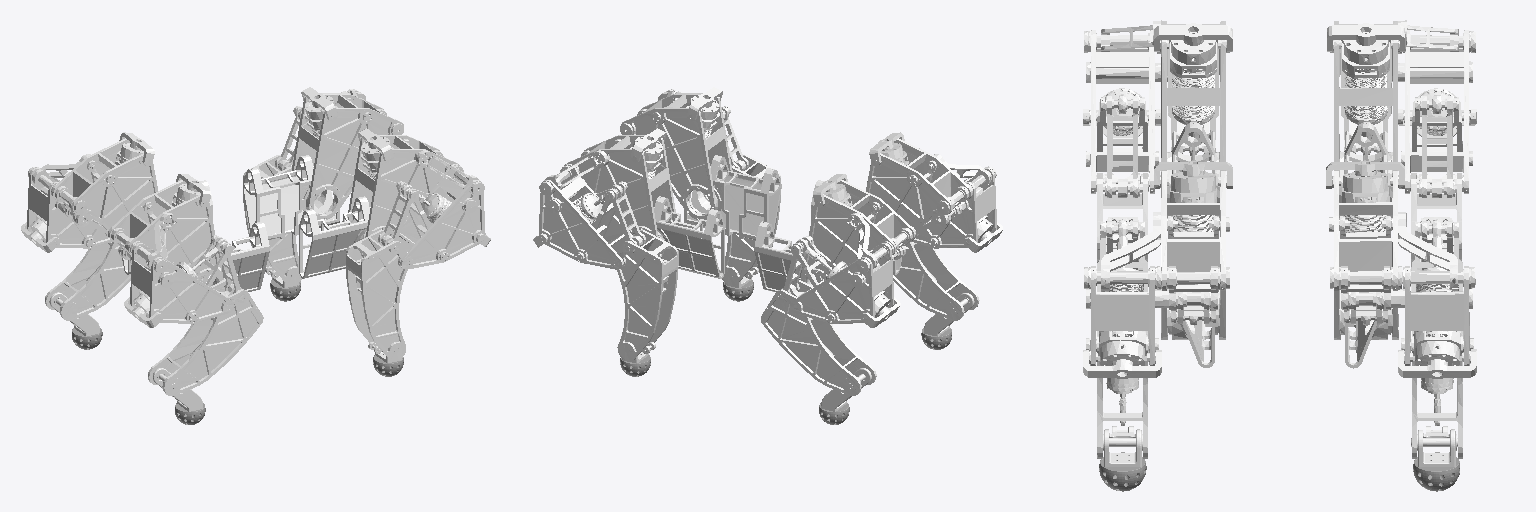
The robot description file, URDF, robot "Cheetah_fourth":
<?xml version="1.0" encoding="utf-8"?>
<!-- This URDF was automatically created by SolidWorks to URDF Exporter! Originally created by Stephen Brawner ([email redacted]) 
     Commit Version: 1.6.0-4-g7f85cfe  Build Version: 1.6.7995.38578
     For more information, please see http://wiki.ros.org/sw_urdf_exporter -->
<robot
  name="Cheetah_fourth">
  <mujoco>
    <compiler
    	meshdir="../meshes/"
    	balanceinertia="true"
    	discardvisual="false" />
  </mujoco>
  <link
    name="BODY">
    <inertial>
      <origin
        xyz="-0.00146519 2.347E-05 -0.00519656"
        rpy="0 0 0" />
      <mass
        value="43.51065452" />
      <inertia
        ixx="1.00623908"
        ixy="0.00027209"
        ixz="0.00398275"
        iyy="2.0487861"
        iyz="3.28E-06"
        izz="2.63616358" />
    </inertial>
    <visual>
      <origin
        xyz="0 0 0"
        rpy="0 0 0" />
      <geometry>
        <mesh
          filename="package://Cheetah_fourth/meshes/BODY.STL" />
      </geometry>
      <material
        name="">
        <color
          rgba="1 1 1 1" />
      </material>
    </visual>
    <collision>
      <origin
        xyz="0 0 0"
        rpy="0 0 0" />
      <geometry>
        <mesh
          filename="package://Cheetah_fourth/meshes/BODY.STL" />
      </geometry>
    </collision>
  </link>
  <link
    name="FR_1">
    <inertial>
      <origin
        xyz="0.092555 -0.01613 0.050348"
        rpy="0 0 0" />
      <mass
        value="20.135" />
      <inertia
        ixx="0.3305"
        ixy="0.059908"
        ixz="-0.050984"
        iyy="0.56539"
        iyz="0.0049697"
        izz="0.39769" />
    </inertial>
    <visual>
      <origin
        xyz="0 0 0"
        rpy="0 0 0" />
      <geometry>
        <mesh
          filename="package://Cheetah_fourth/meshes/FR_1.STL" />
      </geometry>
      <material
        name="">
        <color
          rgba="1 1 1 1" />
      </material>
    </visual>
    <collision>
      <origin
        xyz="0 0 0"
        rpy="0 0 0" />
      <geometry>
        <mesh
          filename="package://Cheetah_fourth/meshes/FR_1.STL" />
      </geometry>
    </collision>
  </link>
  <joint
    name="FR_1A"
    type="revolute">
    <origin
      xyz="0.3575 -0.2 0"
      rpy="0 0 0" />
    <parent
      link="BODY" />
    <child
      link="FR_1" />
    <axis
      xyz="1 0 0" />
    <limit
      lower="-3.14"
      upper="3.14"
      effort="1000"
      velocity="50" />
  </joint>
  <link
    name="FR_2">
    <inertial>
      <origin
        xyz="-0.10611 -0.00050205 -0.13892"
        rpy="0 0 0" />
      <mass
        value="14.125" />
      <inertia
        ixx="0.097553"
        ixy="3.5E-06"
        ixz="0.0093113"
        iyy="0.23134"
        iyz="1.43E-06"
        izz="0.17865" />
    </inertial>
    <visual>
      <origin
        xyz="0 0 0"
        rpy="0 0 0" />
      <geometry>
        <mesh
          filename="package://Cheetah_fourth/meshes/FR_2.STL" />
      </geometry>
      <material
        name="">
        <color
          rgba="1 1 1 1" />
      </material>
    </visual>
    <collision>
      <origin
        xyz="0 0 0"
        rpy="0 0 0" />
      <geometry>
        <mesh
          filename="package://Cheetah_fourth/meshes/FR_2.STL" />
      </geometry>
    </collision>
  </link>
  <joint
    name="FR_2A"
    type="revolute">
    <origin
      xyz="0.2902 -0.164 0.082427"
      rpy="0 0 0" />
    <parent
      link="FR_1" />
    <child
      link="FR_2" />
    <axis
      xyz="0 1 0" />
    <limit
      lower="-3.14"
      upper="3.14"
      effort="1000"
      velocity="50" />
  </joint>
  <link
    name="FR_3">
    <inertial>
      <origin
        xyz="-0.094809 0.00026458 -0.10877"
        rpy="0 0 0" />
      <mass
        value="7.5034" />
      <inertia
        ixx="0.083138"
        ixy="4.539E-05"
        ixz="0.0077468"
        iyy="0.086786"
        iyz="-0.00016735"
        izz="0.018672" />
    </inertial>
    <visual>
      <origin
        xyz="0 0 0"
        rpy="0 0 0" />
      <geometry>
        <mesh
          filename="package://Cheetah_fourth/meshes/FR_3.STL" />
      </geometry>
      <material
        name="">
        <color
          rgba="1 1 1 1" />
      </material>
    </visual>
    <collision>
      <origin
        xyz="0 0 0"
        rpy="0 0 0" />
      <geometry>
        <mesh
          filename="package://Cheetah_fourth/meshes/FR_3.STL" />
      </geometry>
    </collision>
  </link>
  <joint
    name="FR_3A"
    type="revolute">
    <origin
      xyz="-0.28251 0 -0.22953"
      rpy="0 0 0" />
    <parent
      link="FR_2" />
    <child
      link="FR_3" />
    <axis
      xyz="0 1 0" />
    <limit
      lower="-3.14"
      upper="3.14"
      effort="1000"
      velocity="50" />
  </joint>
  <link
    name="FR_4">
    <inertial>
      <origin
        xyz="-0.0058308 0 -0.008628"
        rpy="0 0 0" />
      <mass
        value="0.87541" />
      <inertia
        ixx="0.0012892"
        ixy="0"
        ixz="4.401E-05"
        iyy="0.00065005"
        iyz="0"
        izz="0.0013193" />
    </inertial>
    <visual>
      <origin
        xyz="0 0 0"
        rpy="0 0 0" />
      <geometry>
        <mesh
          filename="package://Cheetah_fourth/meshes/FR_4.STL" />
      </geometry>
      <material
        name="">
        <color
          rgba="1 1 1 1" />
      </material>
    </visual>
    <collision>
      <origin
        xyz="0 0 0"
        rpy="0 0 0" />
      <geometry>
        <mesh
          filename="package://Cheetah_fourth/meshes/FR_4.STL" />
      </geometry>
    </collision>
  </link>
  <joint
    name="FR_4A"
    type="fixed">
    <origin
      xyz="-0.034765 0 -0.33897"
      rpy="0 0 0" />
    <parent
      link="FR_3" />
    <child
      link="FR_4" />
    <axis
      xyz="0 0 0" />
  </joint>
  <link
    name="FR_5">
    <inertial>
      <origin
        xyz="-6.5164E-09 -4.2276E-08 0.0084722"
        rpy="0 0 0" />
      <mass
        value="0.3917" />
      <inertia
        ixx="0.00040822"
        ixy="-3.5273E-11"
        ixz="8.9063E-11"
        iyy="0.00040822"
        iyz="3.0242E-10"
        izz="0.00055712" />
    </inertial>
    <visual>
      <origin
        xyz="0 0 0"
        rpy="0 0 0" />
      <geometry>
        <mesh
          filename="package://Cheetah_fourth/meshes/FR_5.STL" />
      </geometry>
      <material
        name="">
        <color
          rgba="0.69804 0.69804 0.69804 1" />
      </material>
    </visual>
    <collision>
      <origin
        xyz="0 0 0"
        rpy="0 0 0" />
      <geometry>
        <mesh
          filename="package://Cheetah_fourth/meshes/FR_5.STL" />
      </geometry>
    </collision>
  </link>
  <joint
    name="FR_5A"
    type="fixed">
    <origin
      xyz="0 0 -0.085617"
      rpy="0 0 0" />
    <parent
      link="FR_4" />
    <child
      link="FR_5" />
    <axis
      xyz="0 0 0" />
  </joint>
  <link
    name="FL_1">
    <inertial>
      <origin
        xyz="0.092581 0.015926 0.050388"
        rpy="0 0 0" />
      <mass
        value="20.139" />
      <inertia
        ixx="0.33054"
        ixy="-0.0597"
        ixz="-0.051051"
        iyy="0.56512"
        iyz="-0.004275"
        izz="0.39738" />
    </inertial>
    <visual>
      <origin
        xyz="0 0 0"
        rpy="0 0 0" />
      <geometry>
        <mesh
          filename="package://Cheetah_fourth/meshes/FL_1.STL" />
      </geometry>
      <material
        name="">
        <color
          rgba="1 1 1 1" />
      </material>
    </visual>
    <collision>
      <origin
        xyz="0 0 0"
        rpy="0 0 0" />
      <geometry>
        <mesh
          filename="package://Cheetah_fourth/meshes/FL_1.STL" />
      </geometry>
    </collision>
  </link>
  <joint
    name="FL_1A"
    type="revolute">
    <origin
      xyz="0.3575 0.2 0"
      rpy="0 0 0" />
    <parent
      link="BODY" />
    <child
      link="FL_1" />
    <axis
      xyz="1 0 0" />
    <limit
      lower="-3.14"
      upper="3.14"
      effort="1000"
      velocity="50" />
  </joint>
  <link
    name="FL_2">
    <inertial>
      <origin
        xyz="-0.10611 0.0010496 -0.13892"
        rpy="0 0 0" />
      <mass
        value="14.125" />
      <inertia
        ixx="0.097553"
        ixy="-3.347E-05"
        ixz="0.0093112"
        iyy="0.23134"
        iyz="0.00021065"
        izz="0.17865" />
    </inertial>
    <visual>
      <origin
        xyz="0 0 0"
        rpy="0 0 0" />
      <geometry>
        <mesh
          filename="package://Cheetah_fourth/meshes/FL_2.STL" />
      </geometry>
      <material
        name="">
        <color
          rgba="1 1 1 1" />
      </material>
    </visual>
    <collision>
      <origin
        xyz="0 0 0"
        rpy="0 0 0" />
      <geometry>
        <mesh
          filename="package://Cheetah_fourth/meshes/FL_2.STL" />
      </geometry>
    </collision>
  </link>
  <joint
    name="FL_2A"
    type="revolute">
    <origin
      xyz="0.2902 0.164 0.082427"
      rpy="0 0 0" />
    <parent
      link="FL_1" />
    <child
      link="FL_2" />
    <axis
      xyz="0 1 0" />
    <limit
      lower="-3.14"
      upper="3.14"
      effort="1000"
      velocity="50" />
  </joint>
  <link
    name="FL_3">
    <inertial>
      <origin
        xyz="-0.094809 0.00069651 -0.10811"
        rpy="0 0 0" />
      <mass
        value="7.5034" />
      <inertia
        ixx="0.083138"
        ixy="1.463E-05"
        ixz="0.0077469"
        iyy="0.086786"
        iyz="0.00010313"
        izz="0.018672" />
    </inertial>
    <visual>
      <origin
        xyz="0 0 0"
        rpy="0 0 0" />
      <geometry>
        <mesh
          filename="package://Cheetah_fourth/meshes/FL_3.STL" />
      </geometry>
      <material
        name="">
        <color
          rgba="1 1 1 1" />
      </material>
    </visual>
    <collision>
      <origin
        xyz="0 0 0"
        rpy="0 0 0" />
      <geometry>
        <mesh
          filename="package://Cheetah_fourth/meshes/FL_3.STL" />
      </geometry>
    </collision>
  </link>
  <joint
    name="FL_3A"
    type="revolute">
    <origin
      xyz="-0.28251 0 -0.22953"
      rpy="0 0 0" />
    <parent
      link="FL_2" />
    <child
      link="FL_3" />
    <axis
      xyz="0 1 0" />
    <limit
      lower="-3.14"
      upper="3.14"
      effort="1000"
      velocity="50" />
  </joint>
  <link
    name="FL_4">
    <inertial>
      <origin
        xyz="-0.0058308 3.427E-05 -0.008628"
        rpy="0 0 0" />
      <mass
        value="0.87541" />
      <inertia
        ixx="0.0012892"
        ixy="-1.7E-07"
        ixz="4.401E-05"
        iyy="0.00065006"
        iyz="-2.66E-06"
        izz="0.0013193" />
    </inertial>
    <visual>
      <origin
        xyz="0 0 0"
        rpy="0 0 0" />
      <geometry>
        <mesh
          filename="package://Cheetah_fourth/meshes/FL_4.STL" />
      </geometry>
      <material
        name="">
        <color
          rgba="1 1 1 1" />
      </material>
    </visual>
    <collision>
      <origin
        xyz="0 0 0"
        rpy="0 0 0" />
      <geometry>
        <mesh
          filename="package://Cheetah_fourth/meshes/FL_4.STL" />
      </geometry>
    </collision>
  </link>
  <joint
    name="FL_4A"
    type="fixed">
    <origin
      xyz="-0.034765 0 -0.33897"
      rpy="0 0 0" />
    <parent
      link="FL_3" />
    <child
      link="FL_4" />
    <axis
      xyz="0 0 0" />
  </joint>
  <link
    name="FL_5">
    <inertial>
      <origin
        xyz="-1.3294E-08 -3.368E-05 0.0084721"
        rpy="0 0 0" />
      <mass
        value="0.3917" />
      <inertia
        ixx="0.00040822"
        ixy="-3.8199E-12"
        ixz="1.5061E-11"
        iyy="0.00040822"
        iyz="5.9129E-07"
        izz="0.00055711" />
    </inertial>
    <visual>
      <origin
        xyz="0 0 0"
        rpy="0 0 0" />
      <geometry>
        <mesh
          filename="package://Cheetah_fourth/meshes/FL_5.STL" />
      </geometry>
      <material
        name="">
        <color
          rgba="0.69804 0.69804 0.69804 1" />
      </material>
    </visual>
    <collision>
      <origin
        xyz="0 0 0"
        rpy="0 0 0" />
      <geometry>
        <mesh
          filename="package://Cheetah_fourth/meshes/FL_5.STL" />
      </geometry>
    </collision>
  </link>
  <joint
    name="FL_5A"
    type="fixed">
    <origin
      xyz="0 0 -0.085616"
      rpy="0 0 0" />
    <parent
      link="FL_4" />
    <child
      link="FL_5" />
    <axis
      xyz="0 0 0" />
  </joint>
  <link
    name="BR_1">
    <inertial>
      <origin
        xyz="-0.092581 -0.016126 0.050324"
        rpy="0 0 0" />
      <mass
        value="20.139" />
      <inertia
        ixx="0.33054"
        ixy="-0.059903"
        ixz="0.050814"
        iyy="0.56508"
        iyz="0.004941"
        izz="0.39742" />
    </inertial>
    <visual>
      <origin
        xyz="0 0 0"
        rpy="0 0 0" />
      <geometry>
        <mesh
          filename="package://Cheetah_fourth/meshes/BR_1.STL" />
      </geometry>
      <material
        name="">
        <color
          rgba="1 1 1 1" />
      </material>
    </visual>
    <collision>
      <origin
        xyz="0 0 0"
        rpy="0 0 0" />
      <geometry>
        <mesh
          filename="package://Cheetah_fourth/meshes/BR_1.STL" />
      </geometry>
    </collision>
  </link>
  <joint
    name="BR_1A"
    type="revolute">
    <origin
      xyz="-0.3575 -0.2 0"
      rpy="0 0 0" />
    <parent
      link="BODY" />
    <child
      link="BR_1" />
    <axis
      xyz="1 0 0" />
    <limit
      lower="-3.14"
      upper="3.14"
      effort="1000"
      velocity="50" />
  </joint>
  <link
    name="BR_2">
    <inertial>
      <origin
        xyz="0.11812 -0.00049795 -0.15137"
        rpy="0 0 0" />
      <mass
        value="14.125" />
      <inertia
        ixx="0.084797"
        ixy="3.29E-06"
        ixz="-0.006402"
        iyy="0.24783"
        iyz="-1.74E-06"
        izz="0.2079" />
    </inertial>
    <visual>
      <origin
        xyz="0 0 0"
        rpy="0 0 0" />
      <geometry>
        <mesh
          filename="package://Cheetah_fourth/meshes/BR_2.STL" />
      </geometry>
      <material
        name="">
        <color
          rgba="1 1 1 1" />
      </material>
    </visual>
    <collision>
      <origin
        xyz="0 0 0"
        rpy="0 0 0" />
      <geometry>
        <mesh
          filename="package://Cheetah_fourth/meshes/BR_2.STL" />
      </geometry>
    </collision>
  </link>
  <joint
    name="BR_2A"
    type="revolute">
    <origin
      xyz="-0.2902 -0.164 0.082427"
      rpy="0 0 0" />
    <parent
      link="BR_1" />
    <child
      link="BR_2" />
    <axis
      xyz="0 1 0" />
    <limit
      lower="-3.14"
      upper="3.14"
      effort="1000"
      velocity="50" />
  </joint>
  <link
    name="BR_3">
    <inertial>
      <origin
        xyz="-0.0077831 -0.00026544 -0.14985"
        rpy="0 0 0" />
      <mass
        value="7.4789" />
      <inertia
        ixx="0.046472"
        ixy="0.00015024"
        ixz="-0.033286"
        iyy="0.089801"
        iyz="9.283E-05"
        izz="0.058346" />
    </inertial>
    <visual>
      <origin
        xyz="0 0 0"
        rpy="0 0 0" />
      <geometry>
        <mesh
          filename="package://Cheetah_fourth/meshes/BR_3.STL" />
      </geometry>
      <material
        name="">
        <color
          rgba="1 1 1 1" />
      </material>
    </visual>
    <collision>
      <origin
        xyz="0 0 0"
        rpy="0 0 0" />
      <geometry>
        <mesh
          filename="package://Cheetah_fourth/meshes/BR_3.STL" />
      </geometry>
    </collision>
  </link>
  <joint
    name="BR_3A"
    type="revolute">
    <origin
      xyz="0.28251 0 -0.22953"
      rpy="0 0 0" />
    <parent
      link="BR_2" />
    <child
      link="BR_3" />
    <axis
      xyz="0 1 0" />
    <limit
      lower="-3.14"
      upper="3.14"
      effort="1000"
      velocity="50" />
  </joint>
  <link
    name="BR_4">
    <inertial>
      <origin
        xyz="0.00091487 0 -0.0021561"
        rpy="0 0 0" />
      <mass
        value="1.3181" />
      <inertia
        ixx="0.0041969"
        ixy="0"
        ixz="0.0022244"
        iyy="0.0049669"
        iyz="0"
        izz="0.0040026" />
    </inertial>
    <visual>
      <origin
        xyz="0 0 0"
        rpy="0 0 0" />
      <geometry>
        <mesh
          filename="package://Cheetah_fourth/meshes/BR_4.STL" />
      </geometry>
      <material
        name="">
        <color
          rgba="1 1 1 1" />
      </material>
    </visual>
    <collision>
      <origin
        xyz="0 0 0"
        rpy="0 0 0" />
      <geometry>
        <mesh
          filename="package://Cheetah_fourth/meshes/BR_4.STL" />
      </geometry>
    </collision>
  </link>
  <joint
    name="BR_4A"
    type="fixed">
    <origin
      xyz="-0.17621 0 -0.30316"
      rpy="0 0 0" />
    <parent
      link="BR_3" />
    <child
      link="BR_4" />
    <axis
      xyz="0 0 0" />
  </joint>
  <link
    name="BR_5">
    <inertial>
      <origin
        xyz="-3.7932E-08 1.536E-08 0.0084722"
        rpy="0 0 0" />
      <mass
        value="0.3917" />
      <inertia
        ixx="0.00040822"
        ixy="-5.2928E-12"
        ixz="2.5939E-11"
        iyy="0.00040822"
        iyz="-7.5756E-12"
        izz="0.00055712" />
    </inertial>
    <visual>
      <origin
        xyz="0 0 0"
        rpy="0 0 0" />
      <geometry>
        <mesh
          filename="package://Cheetah_fourth/meshes/BR_5.STL" />
      </geometry>
      <material
        name="">
        <color
          rgba="0.69804 0.69804 0.69804 1" />
      </material>
    </visual>
    <collision>
      <origin
        xyz="0 0 0"
        rpy="0 0 0" />
      <geometry>
        <mesh
          filename="package://Cheetah_fourth/meshes/BR_5.STL" />
      </geometry>
    </collision>
  </link>
  <joint
    name="BR_5A"
    type="fixed">
    <origin
      xyz="0.061109 0 -0.12143"
      rpy="0 0 0" />
    <parent
      link="BR_4" />
    <child
      link="BR_5" />
    <axis
      xyz="0 0 0" />
  </joint>
  <link
    name="BL_1">
    <inertial>
      <origin
        xyz="-0.092555 0.01613 0.050348"
        rpy="0 0 0" />
      <mass
        value="20.135" />
      <inertia
        ixx="0.3305"
        ixy="0.059908"
        ixz="0.050984"
        iyy="0.56539"
        iyz="-0.0049697"
        izz="0.39769" />
    </inertial>
    <visual>
      <origin
        xyz="0 0 0"
        rpy="0 0 0" />
      <geometry>
        <mesh
          filename="package://Cheetah_fourth/meshes/BL_1.STL" />
      </geometry>
      <material
        name="">
        <color
          rgba="1 1 1 1" />
      </material>
    </visual>
    <collision>
      <origin
        xyz="0 0 0"
        rpy="0 0 0" />
      <geometry>
        <mesh
          filename="package://Cheetah_fourth/meshes/BL_1.STL" />
      </geometry>
    </collision>
  </link>
  <joint
    name="BL_1A"
    type="revolute">
    <origin
      xyz="-0.3575 0.2 0"
      rpy="0 0 0" />
    <parent
      link="BODY" />
    <child
      link="BL_1" />
    <axis
      xyz="1 0 0" />
    <limit
      lower="-3.14"
      upper="3.14"
      effort="1000"
      velocity="50" />
  </joint>
  <link
    name="BL_2">
    <inertial>
      <origin
        xyz="0.11767 0.00050205 -0.15172"
        rpy="0 0 0" />
      <mass
        value="14.125" />
      <inertia
        ixx="0.08476"
        ixy="3.29E-06"
        ixz="-0.0060363"
        iyy="0.24783"
        iyz="-1.75E-06"
        izz="0.20794" />
    </inertial>
    <visual>
      <origin
        xyz="0 0 0"
        rpy="0 0 0" />
      <geometry>
        <mesh
          filename="package://Cheetah_fourth/meshes/BL_2.STL" />
      </geometry>
      <material
        name="">
        <color
          rgba="1 1 1 1" />
      </material>
    </visual>
    <collision>
      <origin
        xyz="0 0 0"
        rpy="0 0 0" />
      <geometry>
        <mesh
          filename="package://Cheetah_fourth/meshes/BL_2.STL" />
      </geometry>
    </collision>
  </link>
  <joint
    name="BL_2A"
    type="revolute">
    <origin
      xyz="-0.2902 0.164 0.082427"
      rpy="0 0 0" />
    <parent
      link="BL_1" />
    <child
      link="BL_2" />
    <axis
      xyz="0 1 0" />
    <limit
      lower="-3.14"
      upper="3.14"
      effort="1000"
      velocity="50" />
  </joint>
  <link
    name="BL_3">
    <inertial>
      <origin
        xyz="-0.0082282 -0.00026544 -0.14983"
        rpy="0 0 0" />
      <mass
        value="7.4789" />
      <inertia
        ixx="0.046275"
        ixy="0.00015051"
        ixz="-0.03325"
        iyy="0.089801"
        iyz="9.238E-05"
        izz="0.058544" />
    </inertial>
    <visual>
      <origin
        xyz="0 0 0"
        rpy="0 0 0" />
      <geometry>
        <mesh
          filename="package://Cheetah_fourth/meshes/BL_3.STL" />
      </geometry>
      <material
        name="">
        <color
          rgba="1 1 1 1" />
      </material>
    </visual>
    <collision>
      <origin
        xyz="0 0 0"
        rpy="0 0 0" />
      <geometry>
        <mesh
          filename="package://Cheetah_fourth/meshes/BL_3.STL" />
      </geometry>
    </collision>
  </link>
  <joint
    name="BL_3A"
    type="revolute">
    <origin
      xyz="0.28251 0 -0.22953"
      rpy="0 0 0" />
    <parent
      link="BL_2" />
    <child
      link="BL_3" />
    <axis
      xyz="0 1 0" />
    <limit
      lower="-3.14"
      upper="3.14"
      effort="1000"
      velocity="50" />
  </joint>
  <link
    name="BL_4">
    <inertial>
      <origin
        xyz="0.00091487 0 -0.0021561"
        rpy="0 0 0" />
      <mass
        value="1.3181" />
      <inertia
        ixx="0.0041969"
        ixy="0"
        ixz="0.0022244"
        iyy="0.0049669"
        iyz="0"
        izz="0.0040026" />
    </inertial>
    <visual>
      <origin
        xyz="0 0 0"
        rpy="0 0 0" />
      <geometry>
        <mesh
          filename="package://Cheetah_fourth/meshes/BL_4.STL" />
      </geometry>
      <material
        name="">
        <color
          rgba="1 1 1 1" />
      </material>
    </visual>
    <collision>
      <origin
        xyz="0 0 0"
        rpy="0 0 0" />
      <geometry>
        <mesh
          filename="package://Cheetah_fourth/meshes/BL_4.STL" />
      </geometry>
    </collision>
  </link>
  <joint
    name="BL_4A"
    type="fixed">
    <origin
      xyz="-0.177 0 -0.30252"
      rpy="0 0 0" />
    <parent
      link="BL_3" />
    <child
      link="BL_4" />
    <axis
      xyz="0 0 0" />
  </joint>
  <link
    name="BL_5">
    <inertial>
      <origin
        xyz="4.25355798361338E-08 -1.33082913578164E-08 0.00847216100345927"
        rpy="0 0 0" />
      <mass
        value="0.391699574545592" />
      <inertia
        ixx="0.000408218425496498"
        ixy="4.83645834547861E-11"
        ixz="-2.96274446419355E-10"
        iyy="0.000408217973629804"
        iyz="9.01846771757607E-11"
        izz="0.000557116575391156" />
    </inertial>
    <visual>
      <origin
        xyz="0 0 0"
        rpy="0 0 0" />
      <geometry>
        <mesh
          filename="package://Cheetah_fourth/meshes/BL_5.STL" />
      </geometry>
      <material
        name="">
        <color
          rgba="0.698039215686274 0.698039215686274 0.698039215686274 1" />
      </material>
    </visual>
    <collision>
      <origin
        xyz="0 0 0"
        rpy="0 0 0" />
      <geometry>
        <mesh
          filename="package://Cheetah_fourth/meshes/BL_5.STL" />
      </geometry>
    </collision>
  </link>
  <joint
    name="BL_5A"
    type="fixed">
    <origin
      xyz="0.061109 0 -0.12123"
      rpy="0 0 0" />
    <parent
      link="BL_4" />
    <child
      link="BL_5" />
    <axis
      xyz="0 0 1" />
  </joint>
</robot>

--- Render facts (derived) ---
3 views of the same robot in one strip: view 1: azimuth 30°, elevation 25°; view 2: azimuth 150°, elevation 25°; view 3: azimuth 270°, elevation 25° (orthographic).
Model Cheetah_fourth with 21 links and 20 joints (12 revolute, 8 fixed), rooted at BODY, posed every joint at zero.
Links seen in each view (by area): view 1: FL_1, FR_1, BR_1, BL_1, FR_2, BR_2, FR_3, BR_3, BL_3, BL_2, FL_3, BL_4 (+2 smaller); view 2: FR_1, FL_1, BL_1, BR_1, FL_2, BL_2, FL_3, BL_3, BR_3, BR_2, FR_3, BL_4 (+2 smaller); view 3: FR_1, FL_1, BR_1, BL_1, BR_2, BL_2, FR_2, FL_2, FR_3, FL_3, BR_3, BL_3 (+4 smaller).
Boxes of the visible links, x1,y1,x2,y2 form: FL_1: [243, 87, 403, 239]; FR_1: [299, 128, 484, 278]; BR_1: [108, 174, 269, 291]; BL_1: [28, 132, 212, 274]; FR_2: [378, 165, 490, 269]; BR_2: [124, 235, 245, 327]; FR_3: [346, 230, 407, 360]; BR_3: [148, 279, 263, 395]; BL_3: [45, 242, 130, 320]; BL_2: [21, 167, 113, 252]; FL_3: [243, 155, 304, 285]; BL_4: [49, 292, 99, 336]; FR_1: [620, 87, 781, 239]; FL_1: [539, 128, 724, 278]; BL_1: [754, 174, 915, 291]; BR_1: [811, 132, 996, 274]; FL_2: [533, 165, 645, 269]; BL_2: [779, 235, 900, 327]; FL_3: [617, 230, 678, 360]; BL_3: [761, 280, 876, 395]; BR_3: [893, 242, 979, 320]; BR_2: [911, 167, 1002, 252]; FR_3: [719, 155, 780, 285]; BL_4: [821, 368, 871, 411]; FR_1: [1084, 161, 1232, 367]; FL_1: [1326, 161, 1475, 368]; BR_1: [1084, 20, 1232, 202]; BL_1: [1327, 20, 1475, 202]; BR_2: [1083, 30, 1160, 197]; BL_2: [1398, 30, 1476, 197]; FR_2: [1083, 219, 1161, 378]; FL_2: [1398, 219, 1476, 378]; FR_3: [1097, 268, 1147, 459]; FL_3: [1411, 267, 1462, 459]; BR_3: [1097, 173, 1147, 261]; BL_3: [1411, 173, 1461, 266].
Bounding box of the posed robot: 1.42 × 0.9132 × 0.8575 m (x, y, z).
20 mesh visuals loaded from 21 distinct referenced files (20 binary STL); not drawn: 1 (reference not matched to a file when rendering).
